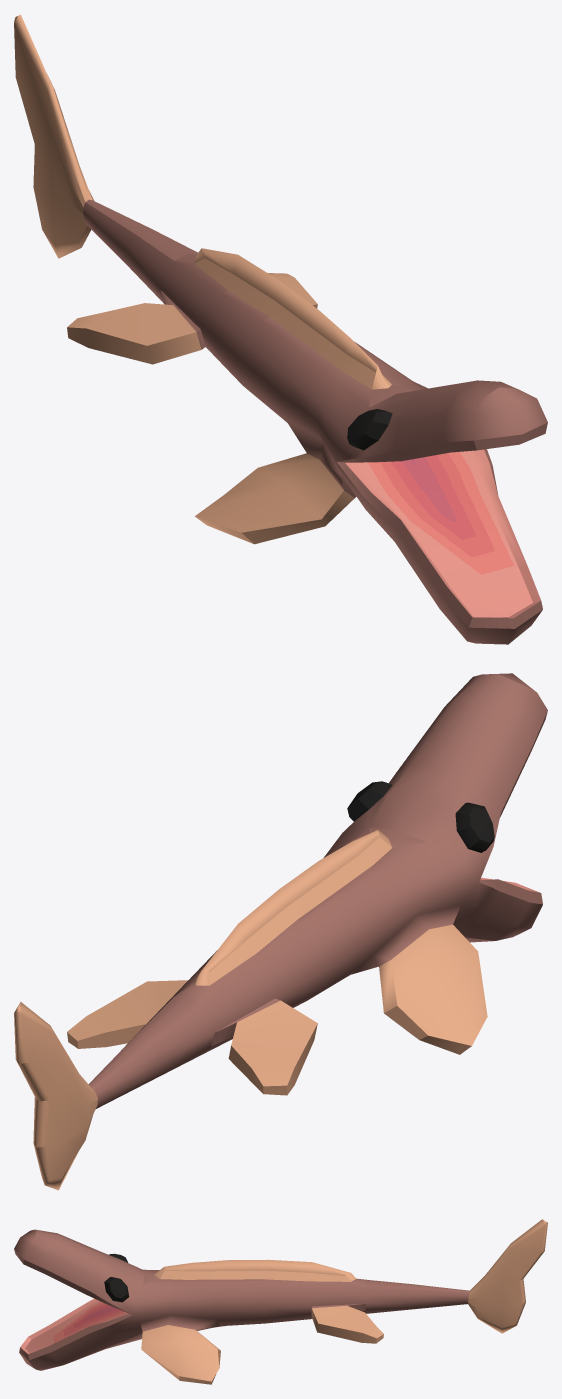
File: atoll_seamonster.fbx
The picture shows the model from 3 angles, top to bottom: view 1: azimuth 30°, elevation 25°; view 2: azimuth 150°, elevation 25°; view 3: azimuth 270°, elevation 25°; orthographic projection. The views are drawn at different scales.
Visible parts, largest first — view 1: atoll_seamonster; view 2: atoll_seamonster; view 3: atoll_seamonster.
Boxes of the visible parts, x1,y1,x2,y2 form: atoll_seamonster: [14, 14, 547, 644]; atoll_seamonster: [14, 673, 547, 1190]; atoll_seamonster: [14, 1219, 547, 1384].
Size of the model in its own units: 82.73 by 80.72 by 261.
